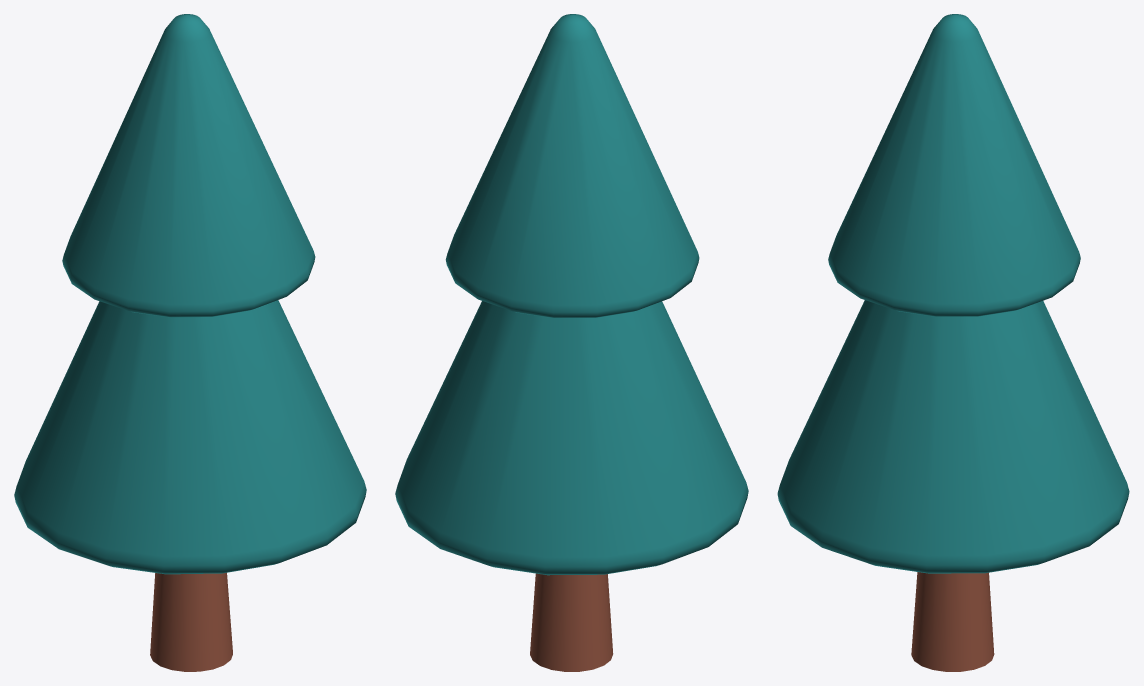
Rendered from Pino.fbx.
3 renders of one model, left to right at view 1: azimuth 30°, elevation 25°; view 2: azimuth 150°, elevation 25°; view 3: azimuth 270°, elevation 25°, orthographic.
Parts seen in each view (by area): view 1: detail_forestB; view 2: detail_forestB; view 3: detail_forestB.
Part boxes in pixels (bbox=[...]): detail_forestB: bbox=[14, 14, 366, 671]; detail_forestB: bbox=[395, 14, 748, 671]; detail_forestB: bbox=[777, 14, 1129, 671].
Bounding box in the file's own units: 32.6 × 65.97 × 32.98.
